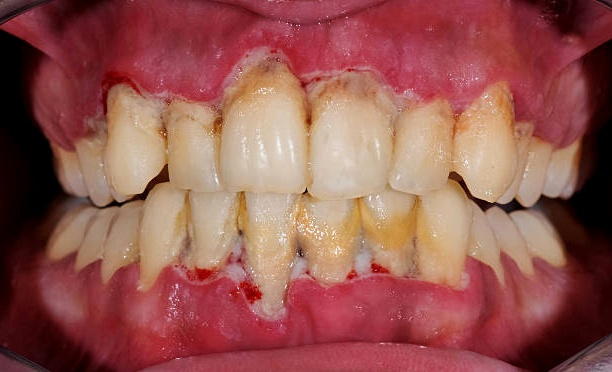Gingivitis: (55, 17, 234, 92), (247, 14, 453, 74), (74, 294, 260, 359), (283, 282, 409, 342), (510, 27, 564, 112)
